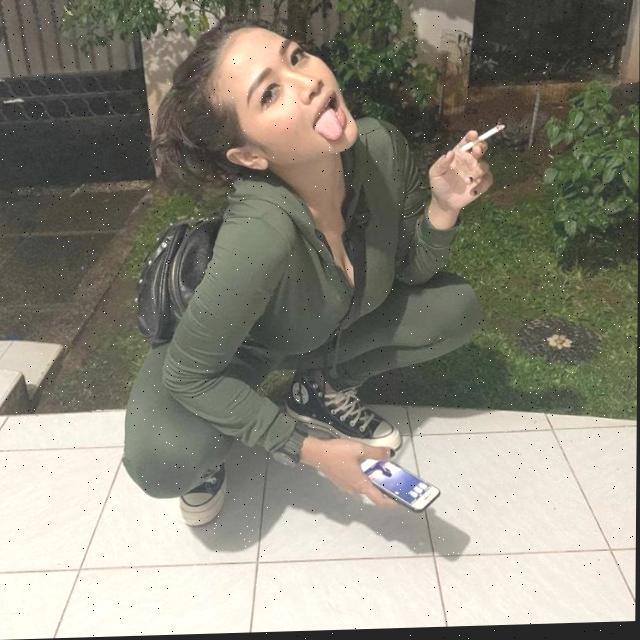cigarette: (461, 128, 506, 156)
